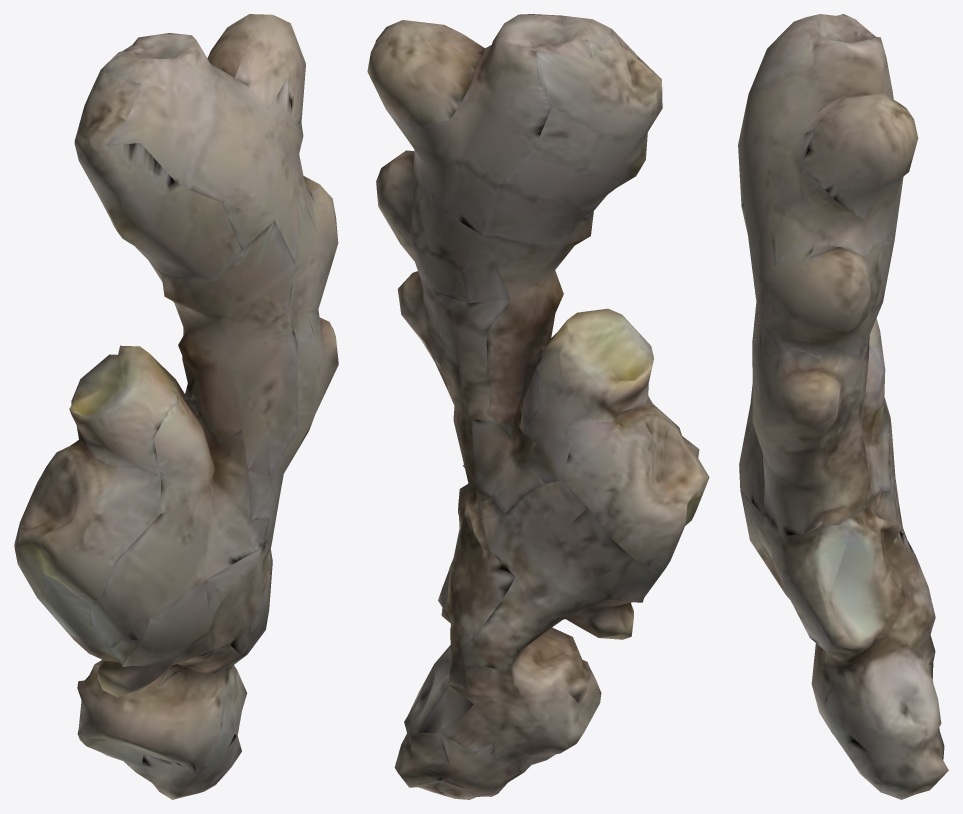
The model's file is food_ginger_01.glb.
3 views of the same model, side by side, from view 1: azimuth 30°, elevation 25°; view 2: azimuth 150°, elevation 25°; view 3: azimuth 270°, elevation 25° (orthographic). The views are drawn at different scales.
Visible parts, largest first — view 1: food_ginger_01_lod0; view 2: food_ginger_01_lod0; view 3: food_ginger_01_lod0.
Boxes of the visible parts, box(x1,y1,x2,y2) form: food_ginger_01_lod0: box(14, 14, 338, 799); food_ginger_01_lod0: box(367, 14, 709, 799); food_ginger_01_lod0: box(738, 14, 948, 799).
Size of what is drawn, in the model's own units: 0.2406 by 0.5741 by 0.1489.
Materials: 1 (1 with a texture image).
